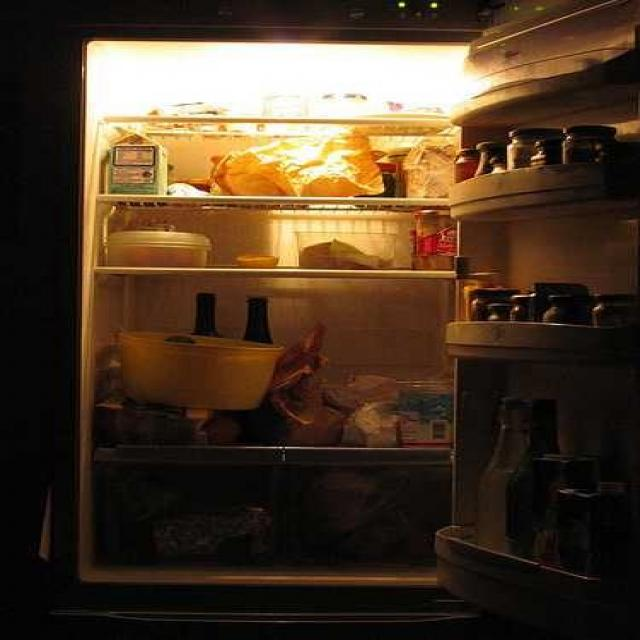refrigerator: (86, 41, 640, 580)
